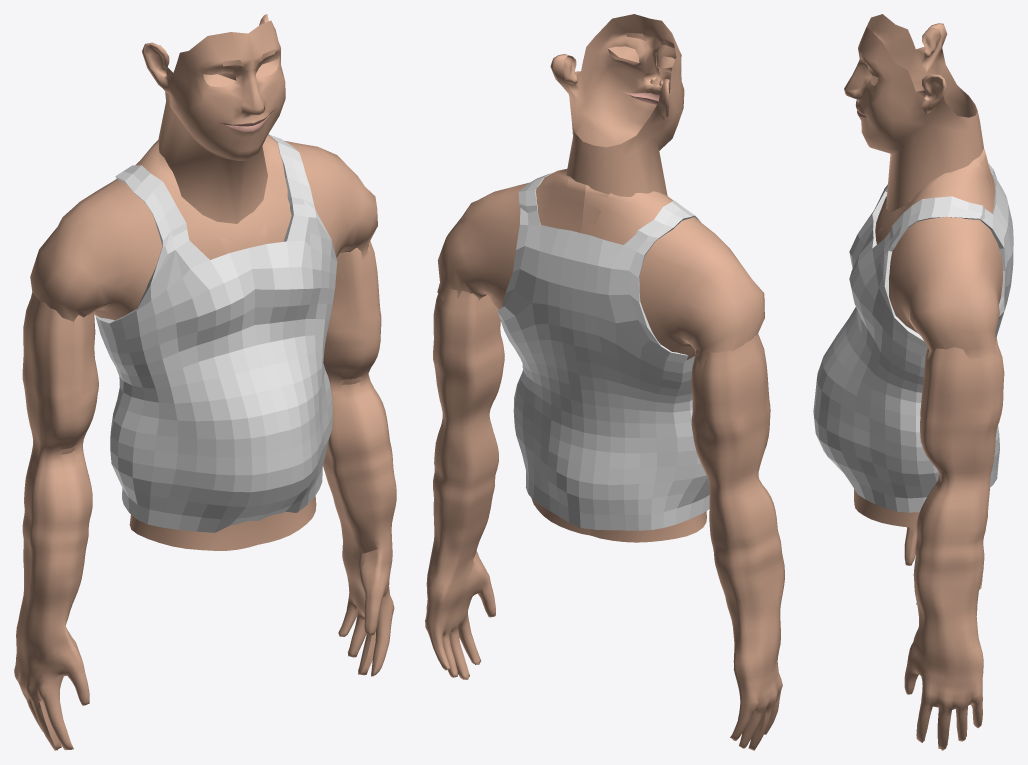
File: Outfit1.fbx
3 views of the same model, side by side, from view 1: azimuth 30°, elevation 25°; view 2: azimuth 150°, elevation 25°; view 3: azimuth 270°, elevation 25° (orthographic). The views are drawn at different scales.
Visible parts, largest first — view 1: man_in_suit.297; view 2: man_in_suit.297; view 3: man_in_suit.297.
Part boxes in pixels (x1,y1,x2,y2): man_in_suit.297: (14,14,396,750); man_in_suit.297: (425,14,784,750); man_in_suit.297: (813,14,1013,750).
Size of the model in its own units: 55.64 by 105 by 28.94.
